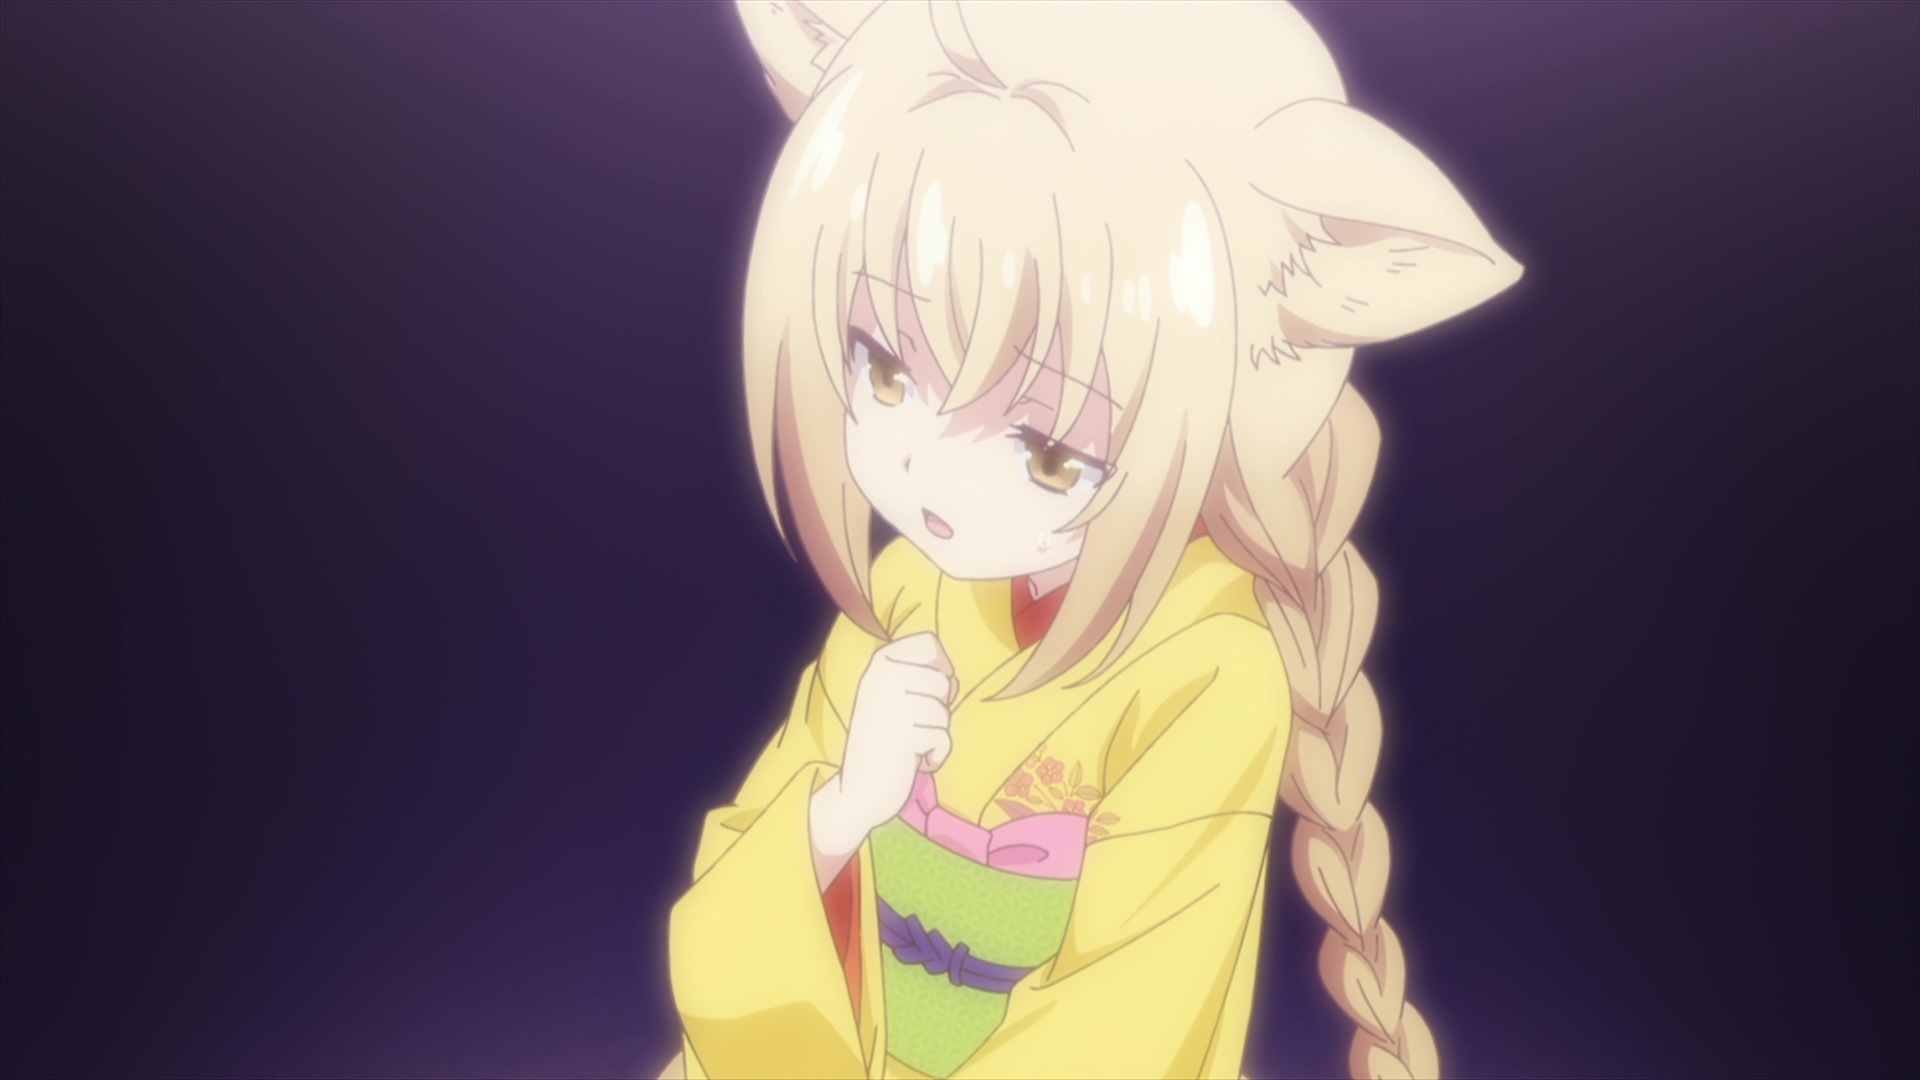柚: (645, 1, 1524, 1080)
